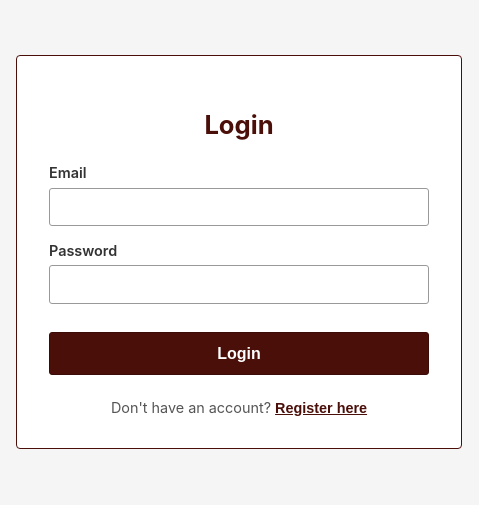
Test: AccountPage › switches to registration form when register is clicked
What coordinates should you click on to do the following:
click the button "Register here"
I would click on:
 (321, 408)
Its box is left=275, top=400, right=367, bottom=416.
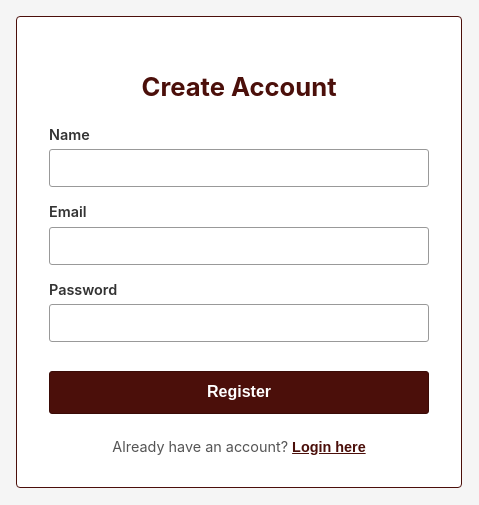
expect the field labelled "Name" is shown: met, box left=49, top=149, right=429, bottom=187
expect the button "Register" is shown: met, box left=49, top=371, right=429, bottom=414
